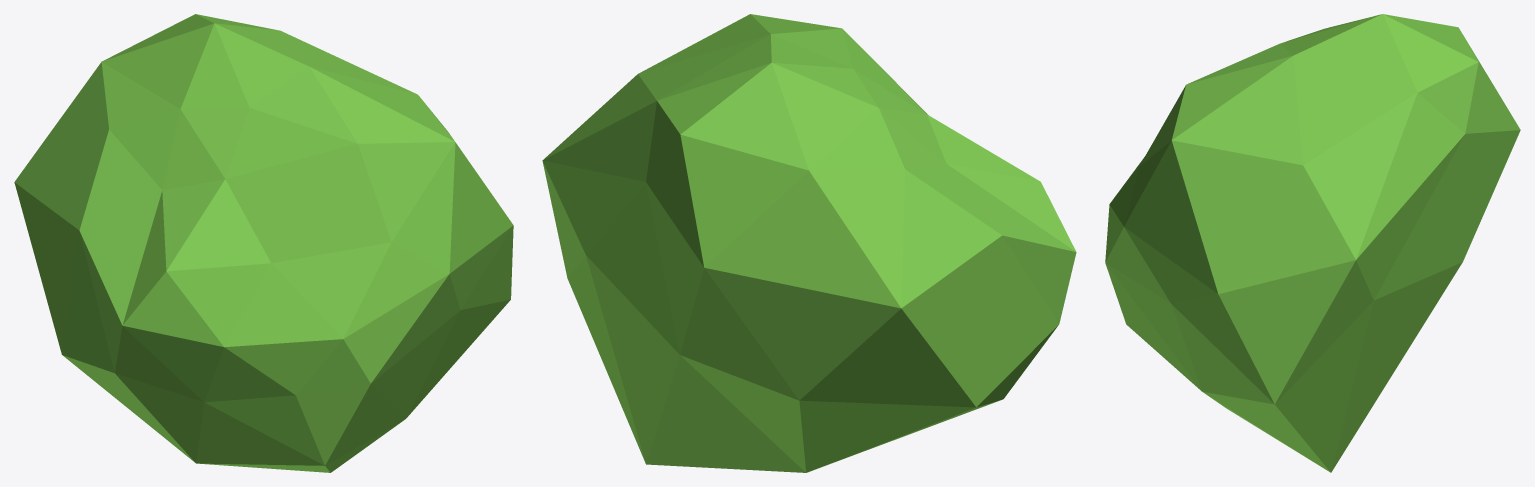
Rendered from low-poly-bush-2.fbx.
The picture shows the model from 3 angles, left to right: view 1: azimuth 30°, elevation 25°; view 2: azimuth 150°, elevation 25°; view 3: azimuth 270°, elevation 25°; orthographic projection. The views are drawn at different scales.
Parts seen in each view (by area): view 1: Icosphere.002; view 2: Icosphere.002; view 3: Icosphere.002.
Part boxes in pixels (<box>): Icosphere.002: <box>14,14,513,472</box>; Icosphere.002: <box>542,14,1076,472</box>; Icosphere.002: <box>1105,14,1520,472</box>.
Bounding box in the file's own units: 975 × 913 × 873.
